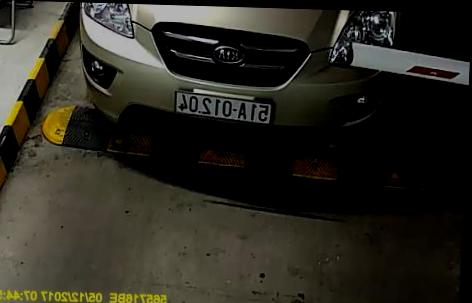License_Plate: (174, 90, 272, 125)
